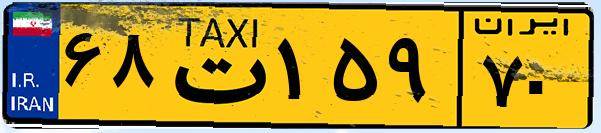0: (525, 38, 570, 115)
1: (270, 28, 330, 110)
5: (330, 28, 385, 110)
6: (57, 26, 110, 100)
7: (475, 38, 525, 113)
8: (110, 28, 158, 98)
9: (385, 28, 445, 110)
ت: (158, 12, 270, 120)
